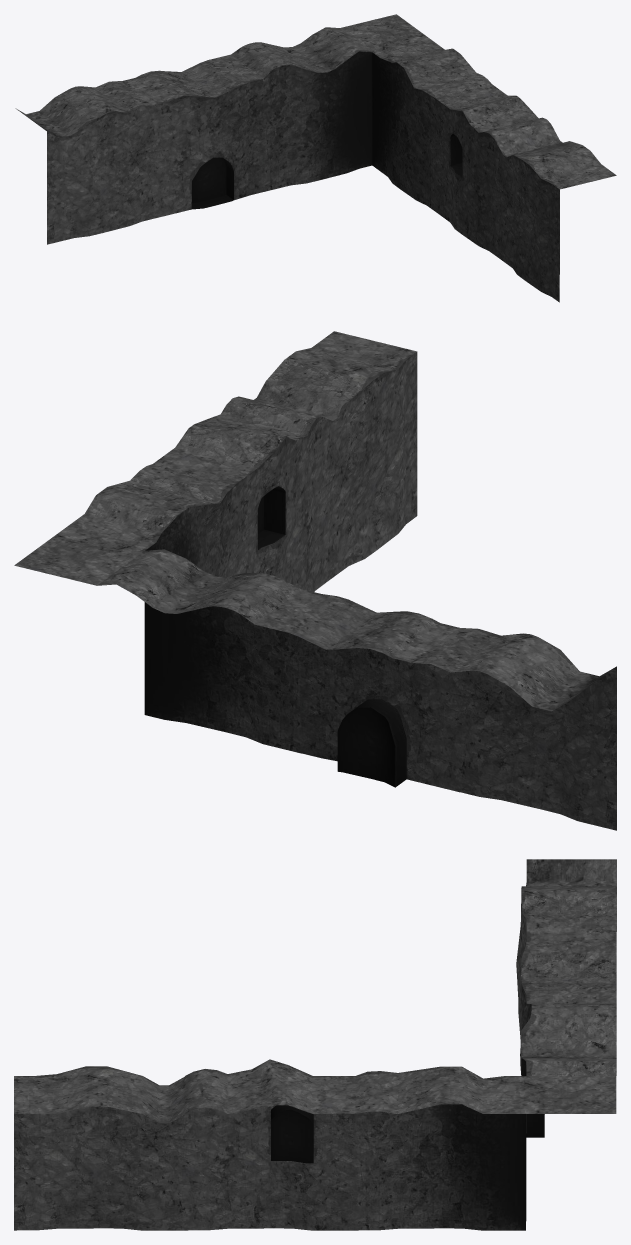
The model's file is WallBoundaries.fbx.
3 views of the same model, one above another, from view 1: azimuth 30°, elevation 25°; view 2: azimuth 150°, elevation 25°; view 3: azimuth 270°, elevation 25° (orthographic). The views are drawn at different scales.
Visible parts, largest first — view 1: Wall_Boundary4, Wall_Boundary1, Wall_Boundary6, Wall_Boundary, Wall_Boundary2, Wall_Boundary5; view 2: Wall_Boundary6, Wall_Boundary1, Wall_Boundary4, Wall_Boundary5, Wall_Boundary2, Wall_Boundary; view 3: Wall_Boundary, Wall_Boundary2, Wall_Boundary5, Wall_Boundary1, Wall_Boundary6, Wall_Boundary4.
Boxes of the visible parts, x1,y1,x2,y2 form: Wall_Boundary4: (231, 27, 372, 191); Wall_Boundary1: (123, 54, 263, 218); Wall_Boundary6: (15, 81, 154, 244); Wall_Boundary: (340, 14, 491, 210); Wall_Boundary2: (434, 84, 554, 256); Wall_Boundary5: (497, 130, 616, 302); Wall_Boundary6: (411, 628, 616, 830); Wall_Boundary1: (254, 589, 459, 792); Wall_Boundary4: (97, 549, 301, 753); Wall_Boundary5: (254, 331, 417, 581); Wall_Boundary2: (153, 396, 326, 591); Wall_Boundary: (14, 464, 235, 585); Wall_Boundary: (355, 1066, 616, 1230); Wall_Boundary2: (185, 1059, 355, 1230); Wall_Boundary5: (14, 1066, 185, 1230); Wall_Boundary1: (520, 931, 616, 1137); Wall_Boundary6: (516, 859, 616, 1042); Wall_Boundary4: (521, 1003, 616, 1220).
Bounding box in the file's own units: 141 × 43.73 × 141.
